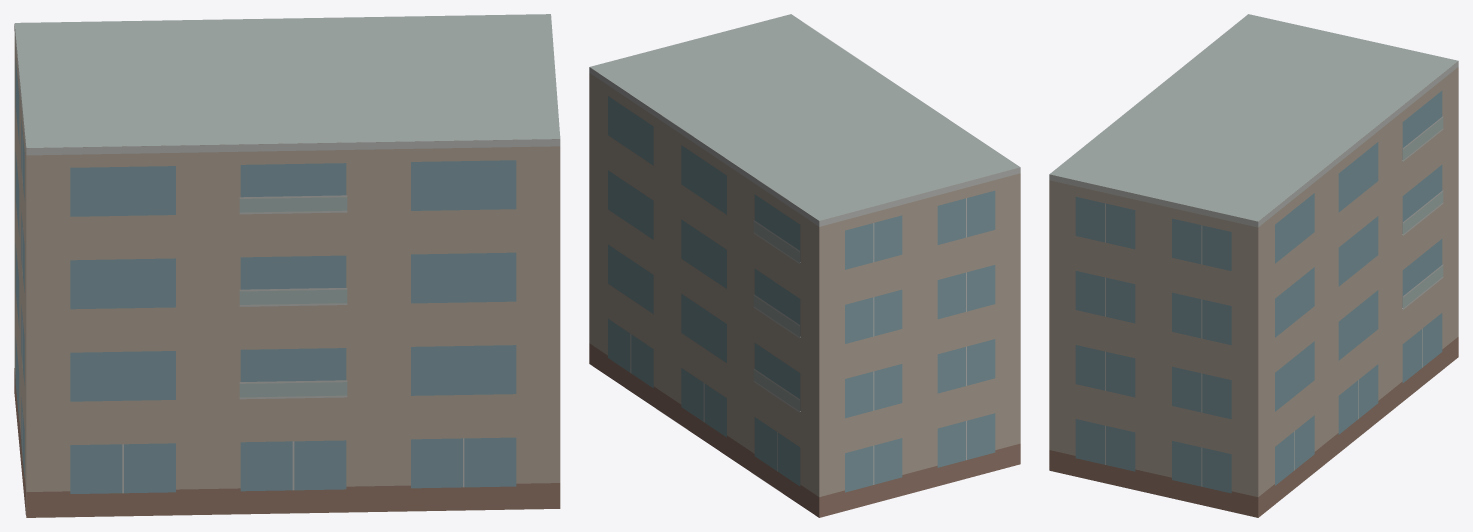
Rendered from survey-upis-32947926.glb.
The picture shows the model from 3 angles, left to right: view 1: azimuth 30°, elevation 25°; view 2: azimuth 150°, elevation 25°; view 3: azimuth 270°, elevation 25°; orthographic projection. The views are drawn at different scales.
Parts seen in each view (by area): view 1: survey-upis-32947926.tmp; view 2: survey-upis-32947926.tmp; view 3: survey-upis-32947926.tmp.
Part boxes in pixels (x1,y1,x2,y2): survey-upis-32947926.tmp: (14, 14, 560, 517); survey-upis-32947926.tmp: (589, 14, 1020, 517); survey-upis-32947926.tmp: (1049, 14, 1458, 517).
Bounding box in the file's own units: 18.46 × 12.28 × 15.38.
